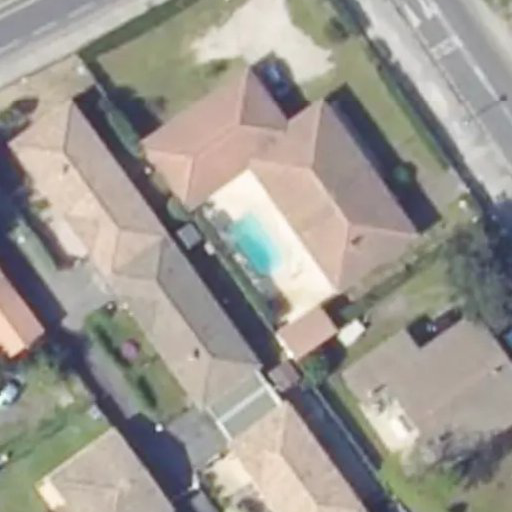pool: (226, 213, 288, 283)
